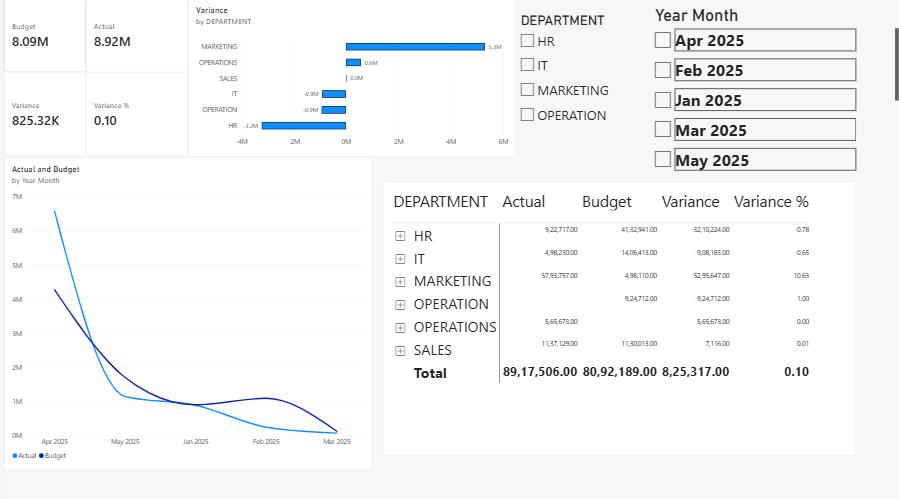

What the dashboard file says about the page in this screenshot:
{"tool":"powerbi","page":{"name":"Page 1","canvas":[1920,1080],"ordinal":0},"visuals":[{"type":"cardVisual","fields":{"Data":["Sheet1.Actual"]},"box":[176.6,0,219.1,159.6],"z":1},{"type":"cardVisual","fields":{"Data":["Sheet1.Budget"]},"box":[0,0,176.6,159.6],"z":2},{"type":"cardVisual","fields":{"Data":["Sheet1.Variance"]},"box":[0,159.6,176.6,180.9],"z":3},{"type":"cardVisual","fields":{"Data":["Sheet1.Variance %"]},"box":[176.6,159.6,219.1,180.9],"z":4},{"type":"lineChart","fields":{"Category":["DateTable.Year Month"],"Y":["Sheet1.Actual","Sheet1.Budget"]},"box":[0,340.4,791.5,672.3],"z":6},{"type":"barChart","fields":{"Category":["Sheet1.DEPARTMENT"],"Y":["Sheet1.Variance"]},"box":[395.7,0,704.3,340.4],"z":7},{"type":"pivotTable","fields":{"Rows":["Sheet1.DEPARTMENT","Sheet1.ACCOUNT"],"Values":["Sheet1.Actual","Sheet1.Budget","Sheet1.Variance","Sheet1.Variance %"]},"box":[812.8,540.4,1014.9,442.6],"z":8},{"type":"slicer","fields":{"Values":["Sheet1.DEPARTMENT"]},"box":[1100,29.8,819.1,257.4],"z":9},{"type":"slicer","fields":{"Values":["DateTable.Year Month"]},"box":[1387.2,14.9,440.4,544.7],"z":10}]}

Visuals, with their boxes in screenshot pixels (x1, y1, x2, y2), scaled from the page's 1920x1080 canvas onto the 899x499 screenshot:
cardVisual - Sheet1.Actual: {"left": 83, "top": 0, "right": 185, "bottom": 74}
cardVisual - Sheet1.Budget: {"left": 0, "top": 0, "right": 83, "bottom": 74}
cardVisual - Sheet1.Variance: {"left": 0, "top": 74, "right": 83, "bottom": 157}
cardVisual - Sheet1.Variance %: {"left": 83, "top": 74, "right": 185, "bottom": 157}
lineChart - DateTable.Year Month x Sheet1.Actual: {"left": 0, "top": 157, "right": 371, "bottom": 468}
barChart - Sheet1.DEPARTMENT x Sheet1.Variance: {"left": 185, "top": 0, "right": 515, "bottom": 157}
pivotTable - Sheet1.DEPARTMENT x Sheet1.ACCOUNT: {"left": 381, "top": 250, "right": 856, "bottom": 454}
slicer - Sheet1.DEPARTMENT: {"left": 515, "top": 14, "right": 898, "bottom": 133}
slicer - DateTable.Year Month: {"left": 650, "top": 7, "right": 856, "bottom": 259}
